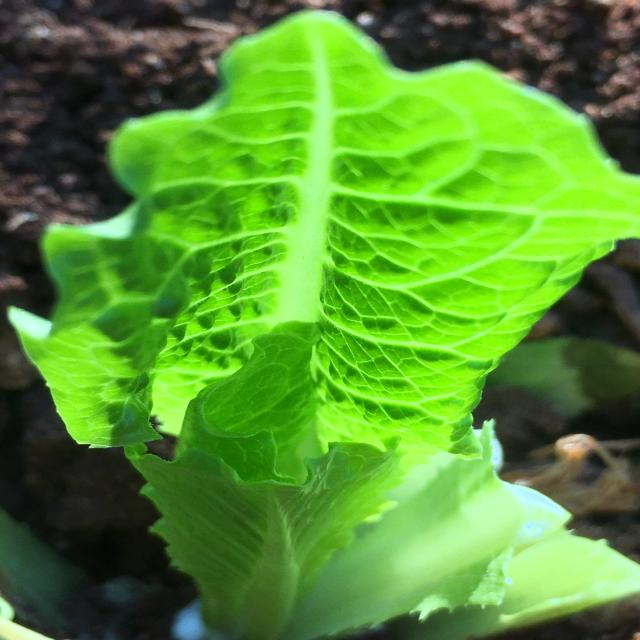Healthy Lettuce: (9, 10, 636, 635)
